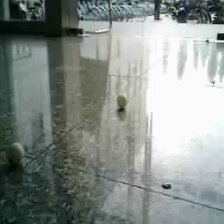w: (6, 142, 24, 164), (116, 93, 129, 108)
